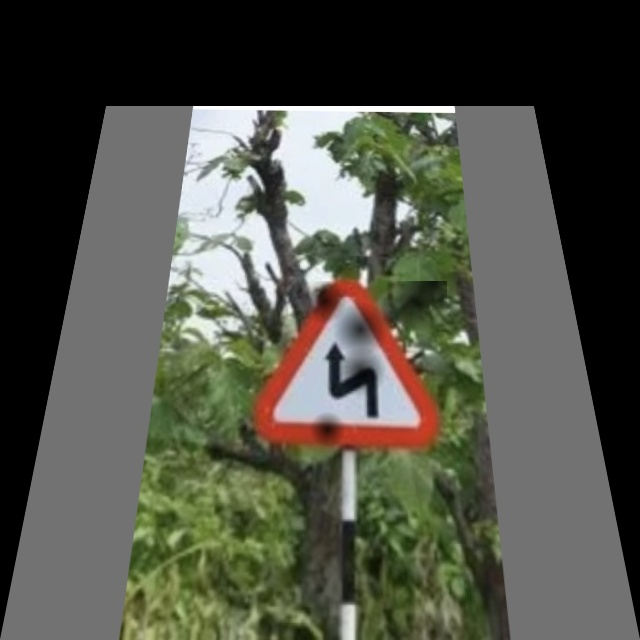Left_Reverse_Bend: (251, 281, 447, 449)
